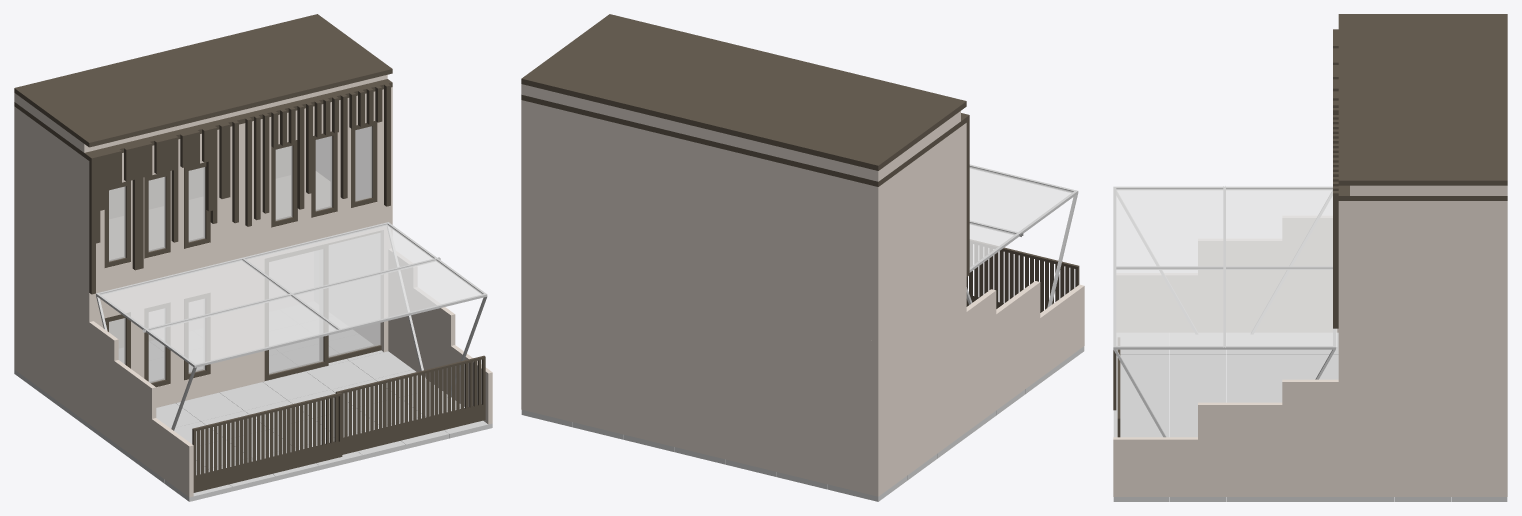
The model's file is House-3.fbx.
The picture shows the model from 3 angles, left to right: view 1: azimuth 30°, elevation 25°; view 2: azimuth 150°, elevation 25°; view 3: azimuth 270°, elevation 25°; orthographic projection. The views are drawn at different scales.
Visible parts, largest first — view 1: Cube.001; view 2: Cube.001; view 3: Cube.001.
Boxes of the visible parts, x1,y1,x2,y2 form: Cube.001: (14,14,492,501); Cube.001: (521,14,1084,501); Cube.001: (1113,14,1507,501).
Bounding box in the file's own units: 700 × 630 × 700.
